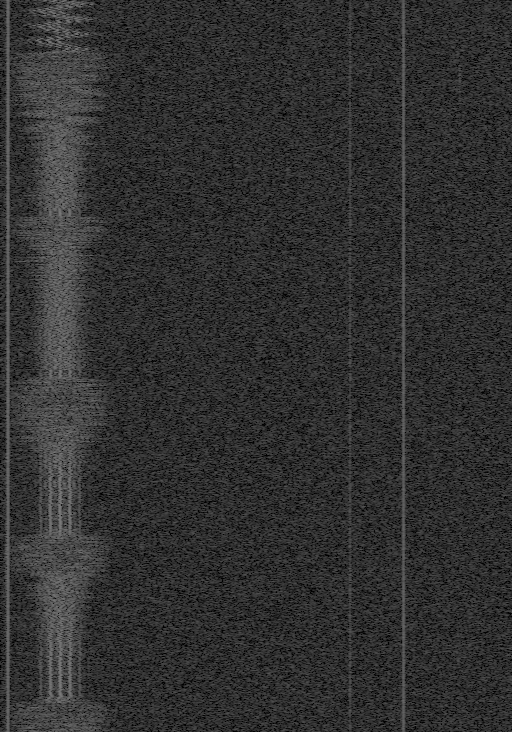wv_am: (348, 0, 352, 732)
wv_cw: (5, 0, 11, 732), (401, 0, 406, 732)
wv_lsb: (457, 63, 462, 109), (457, 396, 462, 419), (455, 449, 460, 468), (457, 718, 462, 732), (455, 425, 460, 438), (455, 173, 459, 187), (456, 591, 459, 609), (456, 645, 459, 662), (455, 544, 459, 556), (455, 498, 459, 510), (455, 526, 459, 537), (456, 610, 459, 623), (458, 430, 462, 439), (455, 439, 459, 448), (455, 470, 460, 477), (456, 558, 459, 569), (456, 261, 459, 272), (456, 718, 459, 727), (456, 239, 459, 248), (456, 228, 459, 237), (456, 101, 459, 109), (456, 81, 459, 89), (455, 67, 459, 73), (456, 412, 459, 419), (456, 360, 459, 367), (456, 199, 459, 206), (456, 159, 459, 166), (455, 485, 460, 489), (455, 420, 460, 424), (455, 209, 459, 214), (456, 690, 459, 696), (456, 683, 459, 689), (456, 670, 459, 676), (456, 637, 459, 643), (456, 577, 459, 583), (456, 518, 459, 524), (456, 511, 459, 517), (456, 478, 459, 484), (456, 253, 459, 259), (458, 420, 462, 424), (455, 493, 459, 497), (458, 135, 461, 140), (456, 710, 459, 715), (456, 631, 459, 636), (456, 624, 459, 629), (456, 571, 459, 576), (456, 538, 459, 543), (456, 193, 459, 198), (456, 167, 459, 172), (456, 149, 459, 154), (456, 128, 459, 133), (456, 113, 459, 118), (456, 92, 459, 97), (456, 75, 459, 80), (458, 169, 461, 173), (458, 119, 461, 123), (458, 110, 461, 114), (456, 698, 459, 702), (456, 678, 459, 682), (456, 665, 459, 669), (456, 585, 459, 589), (456, 372, 459, 376), (456, 291, 459, 295), (456, 217, 459, 221), (456, 188, 459, 192), (456, 144, 459, 148), (456, 123, 459, 127), (456, 51, 459, 55), (456, 17, 459, 21), (456, 8, 459, 12), (458, 463, 461, 467), (458, 447, 461, 450), (458, 131, 461, 134), (458, 115, 461, 118), (456, 368, 459, 371), (456, 354, 459, 357), (456, 345, 459, 348), (456, 314, 459, 317), (456, 300, 459, 303), (456, 296, 459, 299), (456, 283, 459, 286), (456, 275, 459, 278), (456, 224, 459, 227), (456, 137, 459, 140), (456, 56, 459, 59), (456, 31, 459, 34)
wv_usb: (4, 508, 10, 658), (4, 354, 9, 431), (4, 664, 9, 732), (4, 300, 9, 353), (4, 81, 9, 133), (4, 135, 9, 182), (4, 470, 9, 507), (4, 434, 9, 466), (5, 43, 9, 78), (4, 226, 9, 250), (5, 6, 9, 32), (4, 183, 9, 197), (4, 208, 8, 225), (4, 288, 9, 299), (4, 198, 9, 207), (5, 251, 8, 264), (5, 272, 9, 281), (5, 33, 8, 40), (5, 265, 8, 271), (5, 659, 9, 663), (5, 282, 8, 287)
wv_wbfm: (0, 0, 118, 732)
